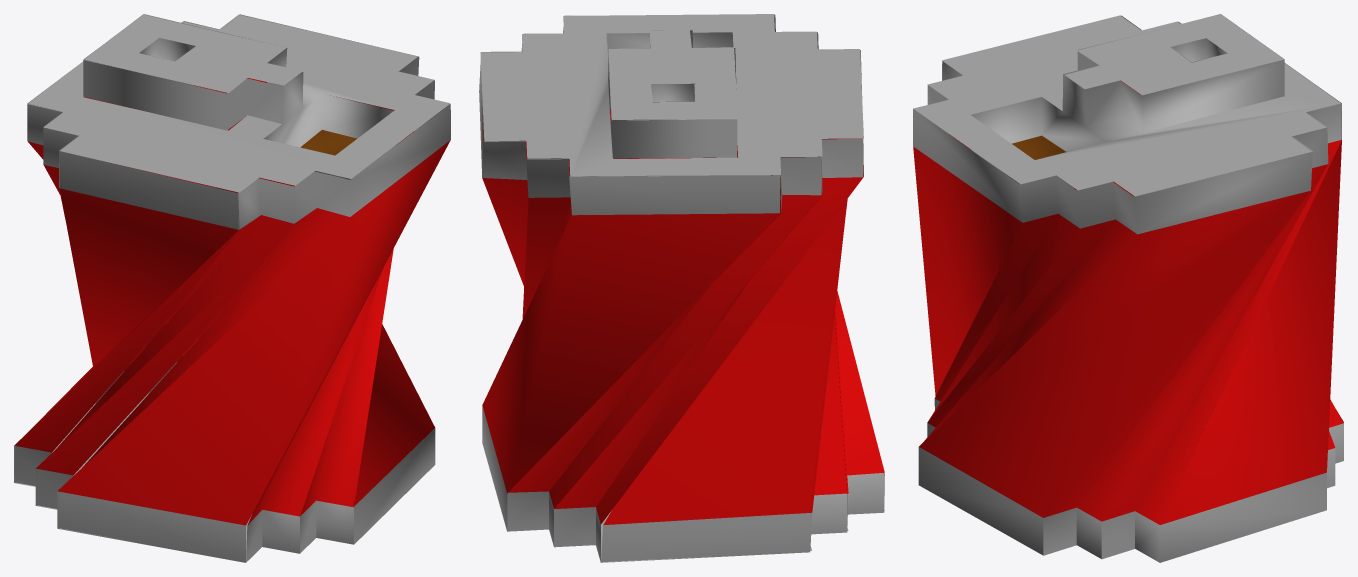
File: kann.fbx
The picture shows the model from 3 angles, left to right: view 1: azimuth 30°, elevation 25°; view 2: azimuth 150°, elevation 25°; view 3: azimuth 270°, elevation 25°; orthographic projection. The views are drawn at different scales.
Visible parts, largest first — view 1: ObjObject; view 2: ObjObject; view 3: ObjObject.
Part boxes in pixels (<box>): ObjObject: <box>14,14,450,562</box>; ObjObject: <box>479,14,884,562</box>; ObjObject: <box>913,14,1343,562</box>.
Bounding box in the file's own units: 106 × 109 × 103.
